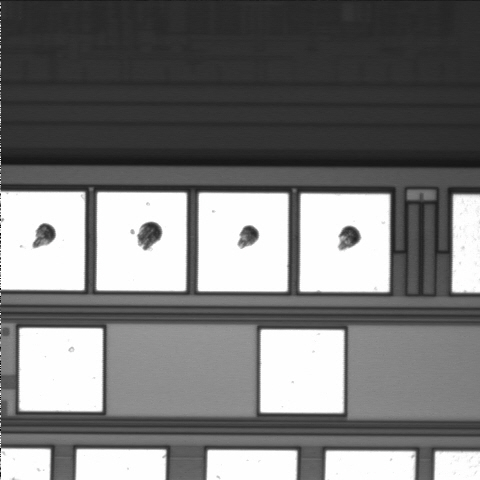pad: (97, 192, 187, 291), (198, 193, 288, 292), (300, 194, 390, 292), (19, 328, 103, 411), (260, 330, 344, 413)
